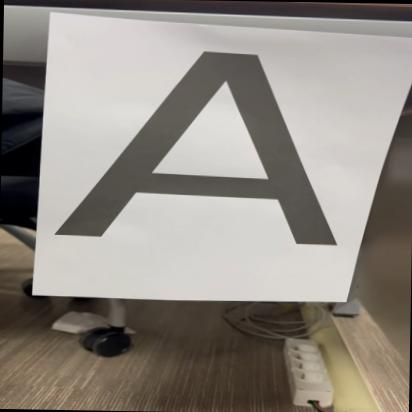seat: (46, 36, 348, 246)
